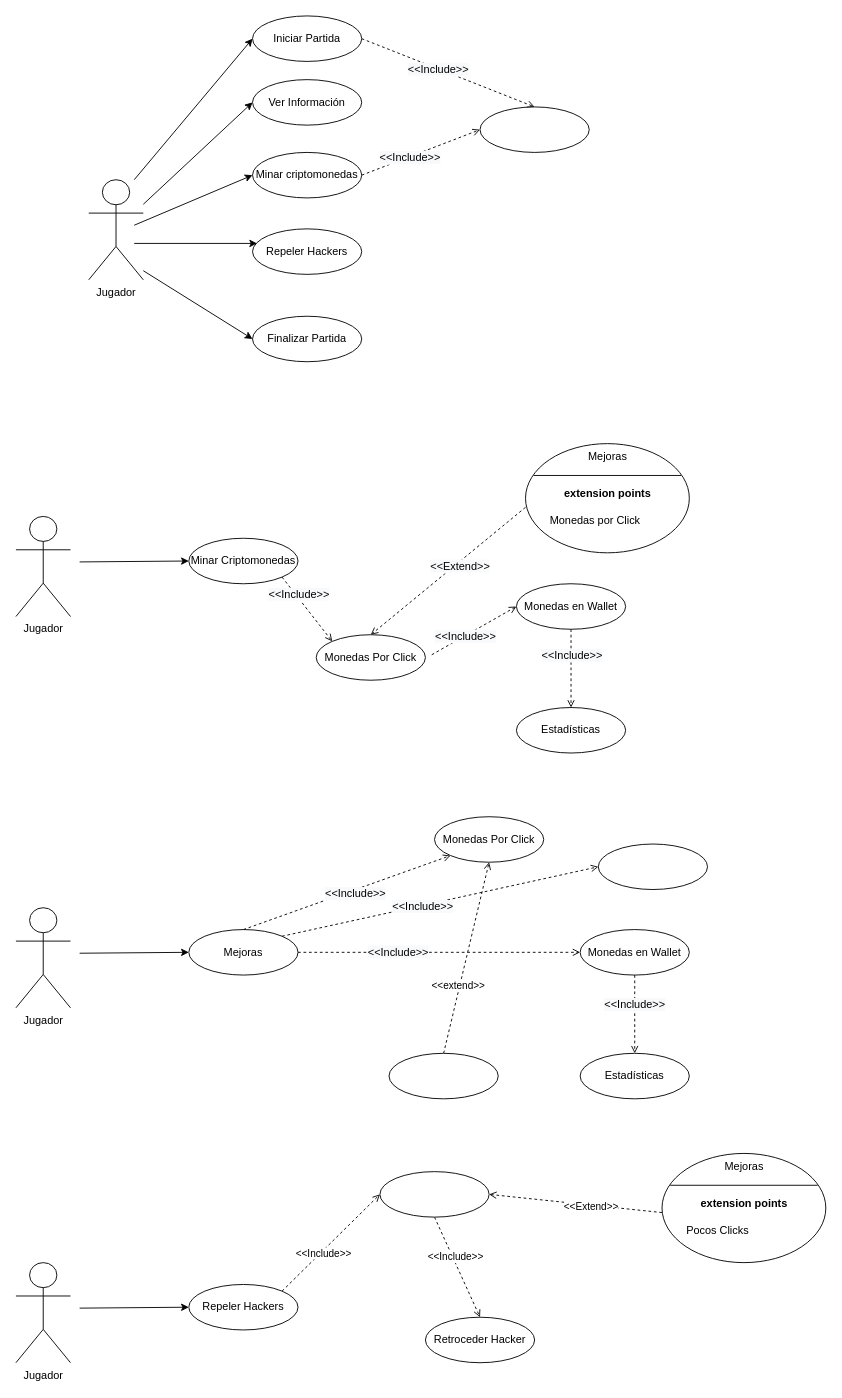
The diagram is 842 pixels wide and 1398 high, and some of its shapes have lost their labels. The shapes that lost their labels are listed below. From the top down, each one's centre as x and y in pixels, then its label:
At point (534, 129): "Cargar Primer Nivel".
At point (652, 866): "Minado pasivo".
At point (443, 1075): "Incremento Nivel".
At point (434, 1194): "Clickear Hacker".
